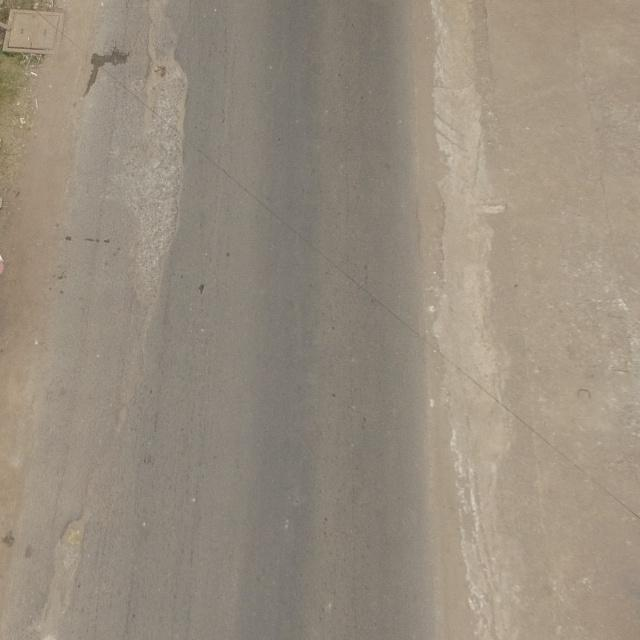GRIETA: (32, 0, 186, 639), (428, 0, 514, 639)
